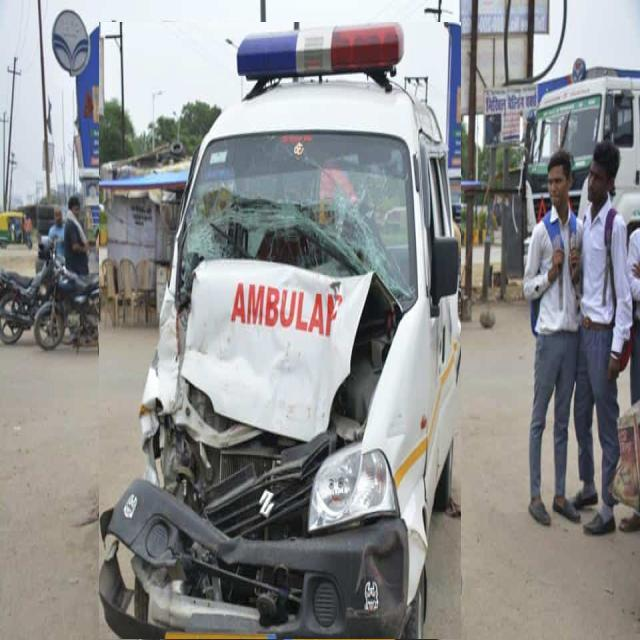accident: (99, 22, 461, 639)
motorcycle: (34, 260, 102, 349), (0, 247, 54, 344)
truck: (524, 67, 640, 234)
